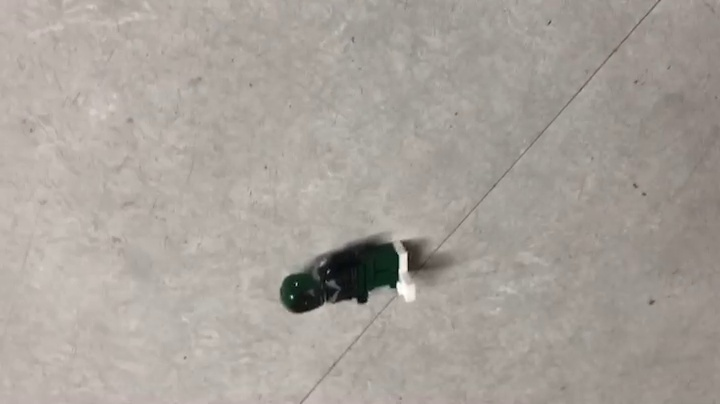people: (279, 240, 418, 315)
